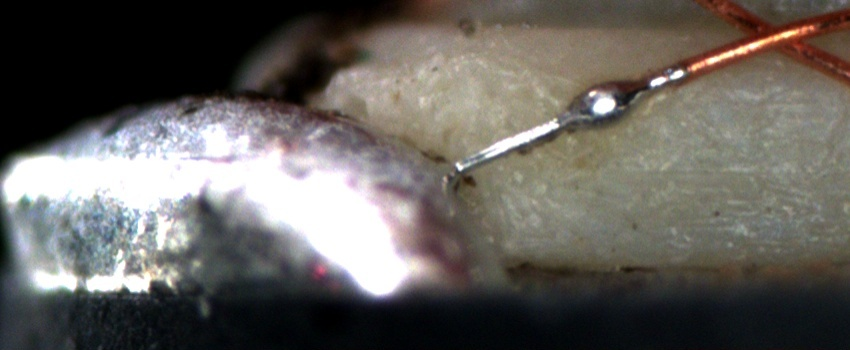CL: (715, 6, 838, 63)
DL: (560, 73, 850, 112), (604, 151, 850, 189)
TB: (564, 72, 649, 135)
TS: (455, 64, 691, 171)
TTCW: (455, 43, 741, 178)
